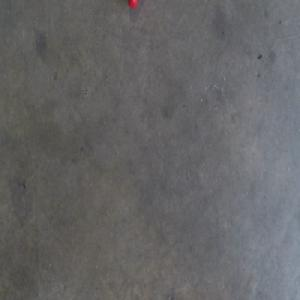Pliers: (125, 0, 137, 9)
